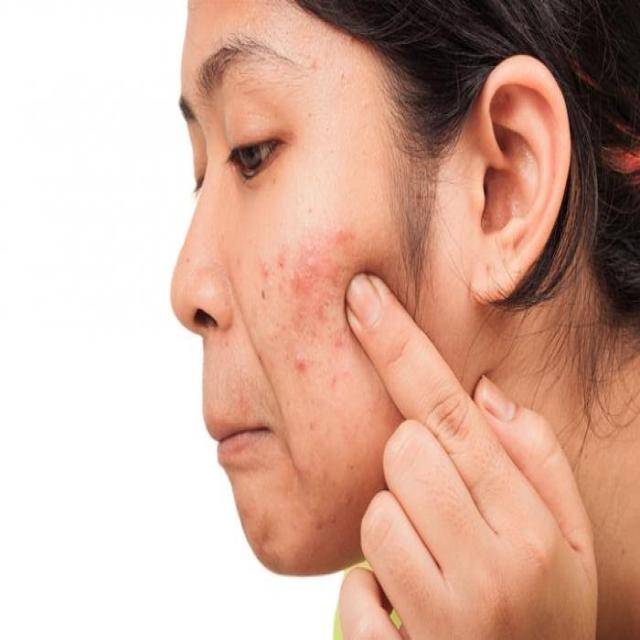Acne: (260, 221, 357, 389), (302, 462, 353, 535), (236, 497, 284, 568), (308, 54, 321, 76)
